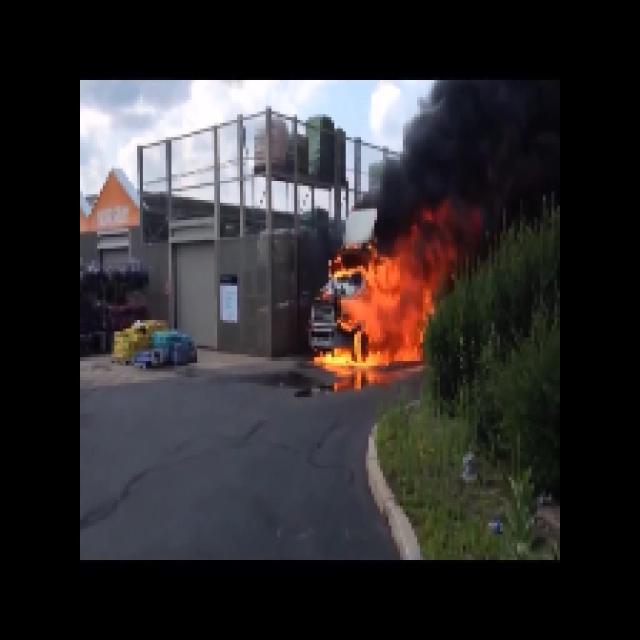fire: (336, 255, 432, 375)
smoke: (409, 69, 546, 242)
